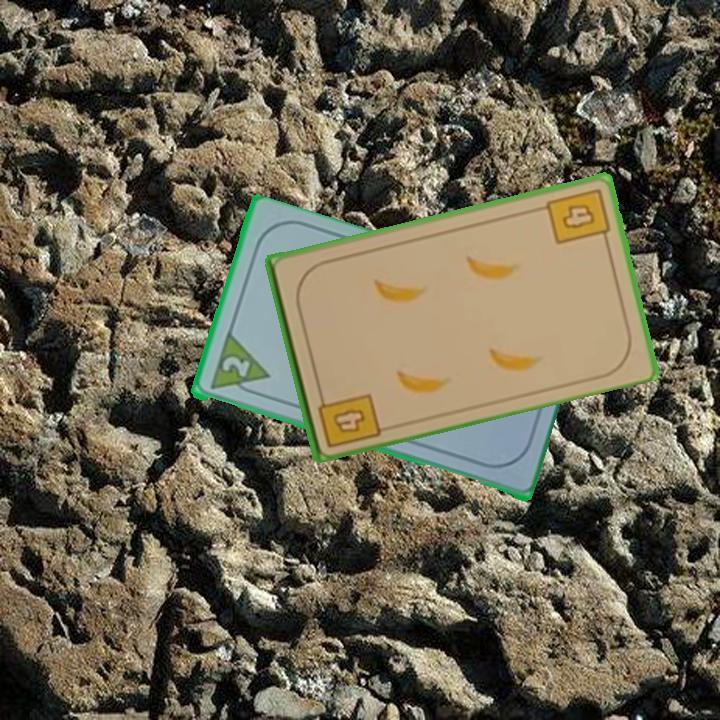2p: (218, 352, 253, 381)
4b: (314, 385, 383, 451), (543, 184, 613, 247)
